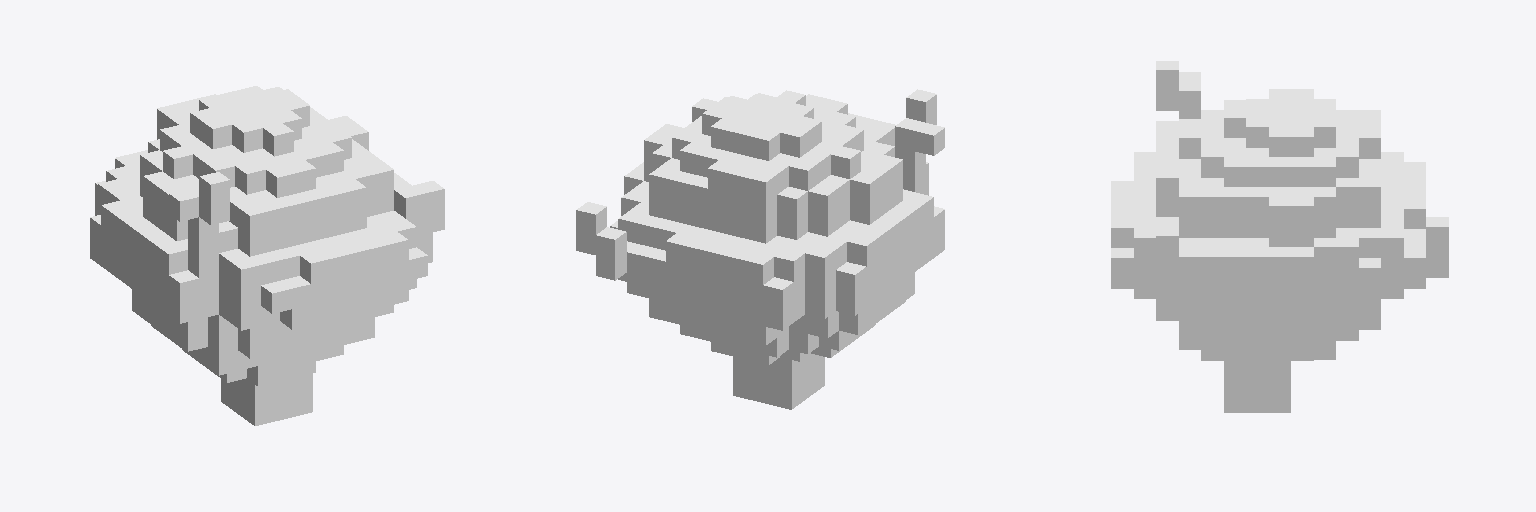
Rendered from Bush2.obj.
The picture shows the model from 3 angles: view 1: azimuth 30°, elevation 25°; view 2: azimuth 150°, elevation 25°; view 3: azimuth 270°, elevation 25°; orthographic projection.
Visible parts, largest first — view 1: object 1; view 2: object 1; view 3: object 1.
Part boxes in pixels (x1,y1,x2,y2): object 1: (90,86,444,425); object 1: (576,89,944,409); object 1: (1111,61,1448,412).
Size of the model in its own units: 1.3 by 1.4 by 1.5.